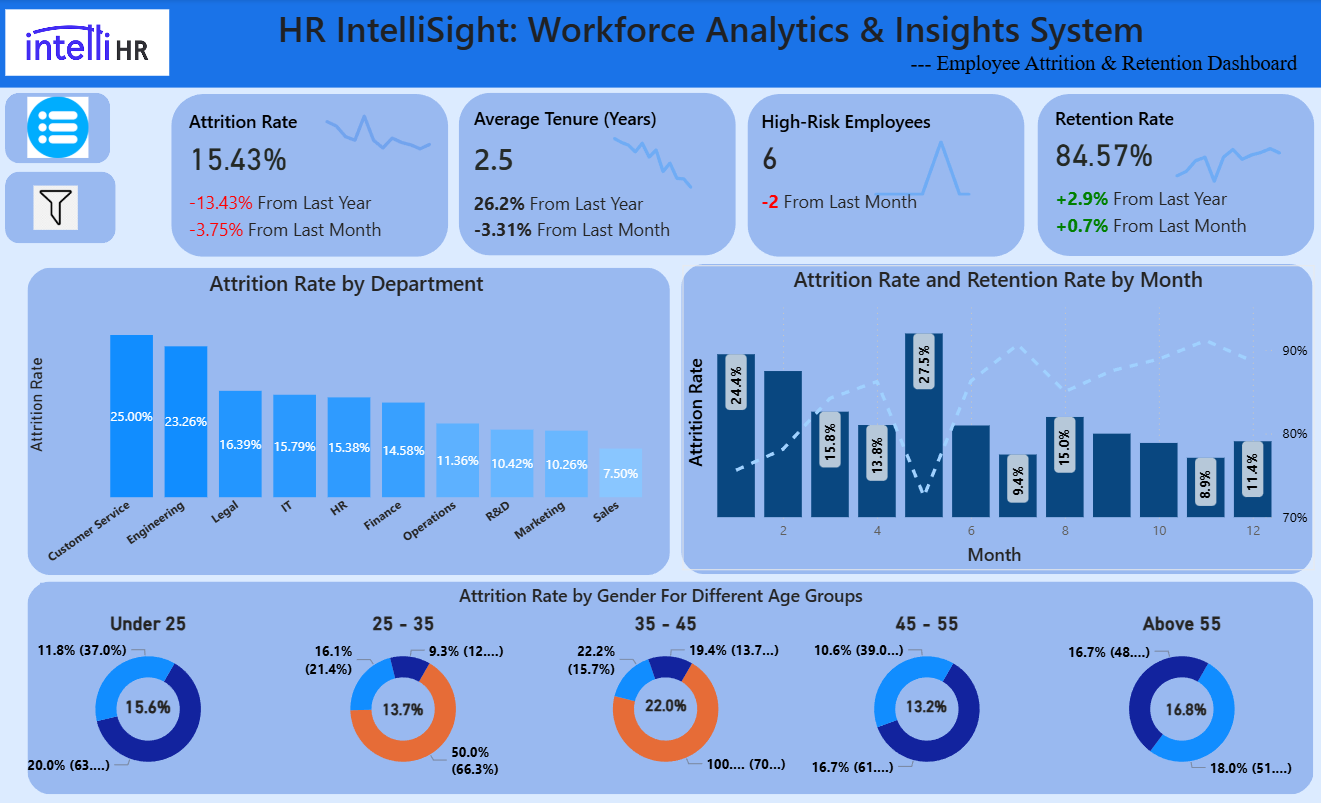

This screenshot's page, from the dashboard's own definition file:
{"tool":"powerbi","page":{"name":"Attrition & Retention","canvas":[1200,730],"ordinal":1},"visuals":[{"type":"shape","box":[0,0,1200,80],"z":0},{"type":"shape","box":[0.3,75,178.8,655],"z":0,"group":"g7"},{"type":"shape","box":[414.9,85,250,147],"z":0,"group":"g2"},{"type":"shape","box":[154.2,85.4,250,147],"z":0,"group":"g1"},{"type":"shape","box":[674.9,85.9,250,147],"z":0,"group":"g3"},{"type":"shape","box":[937.2,85.9,250,146.2],"z":0,"group":"g4"},{"type":"shape","box":[615.6,238.9,570,280],"z":0,"group":"g5"},{"type":"shape","box":[25,242.2,580,277.5],"z":0,"group":"g6"},{"type":"textbox","box":[5,0,1275,80],"z":1000},{"type":"slicer","fields":{"Values":["Calender.Year"]},"box":[0,234.7,173.8,326.2],"z":1000,"group":"g7"},{"type":"lineClusteredColumnComboChart","fields":{"Category":["Calendar.Month"],"Y":["01_Employee_Master_Fact.Attrition Rate"],"Y2":["01_Employee_Master_Fact.Retention Rate"]},"box":[616.2,239.5,570,276.2],"z":1000,"group":"g5"},{"type":"columnChart","fields":{"Y":["01_Employee_Master_Fact.Attrition Rate"],"Category":["01_Employee_Master_Fact.Department"]},"box":[20,242.8,585,276.2],"z":1000,"group":"g6"},{"type":"cardVisual","fields":{"Data":["01_Employee_Master_Fact.High-Risk Employees"]},"box":[670,69,247.5,141.2],"z":2000,"group":"g3"},{"type":"cardVisual","fields":{"Data":["01_Employee_Master_Fact.Average Tenure (Years)"]},"box":[411,79,225,153.8],"z":2000,"group":"g2"},{"type":"cardVisual","fields":{"Data":["01_Employee_Master_Fact.Retention Rate"]},"box":[936,79,248.8,141.2],"z":2000,"group":"g4"},{"type":"group","id":"g1","title":"Group 1","box":[153,82,274,150],"z":2000},{"type":"cardVisual","fields":{"Data":["01_Employee_Master_Fact.Attrition Rate"]},"box":[153,82,248.8,141.2],"z":2000,"group":"g1"},{"type":"shape","box":[24.4,525.6,1161.1,192.2],"z":3000},{"type":"shape","box":[5,85,95,63.8],"z":4000},{"type":"shape","box":[5,156.2,100,65],"z":5000},{"type":"group","id":"g2","title":"Group 2","box":[411,79,253,153],"z":6000},{"type":"group","id":"g3","title":"Group 3","box":[670,69,255,164],"z":7000},{"type":"group","id":"g4","title":"Group 4","box":[936,79,260,153],"z":8000},{"type":"donutChart","title":"Under 25","fields":{"Category":["01_Employee_Master_Fact.Gender"],"Y":["01_Employee_Master_Fact.Attrition Rate"],"Series":["01_Employee_Master_Fact.Age Groups"]},"box":[21.2,553.8,225,155],"z":9000},{"type":"lineChart","fields":{"Category":["Calender.Month"],"Y":["01_Employee_Master_Fact.Attrition Rate"]},"box":[271.6,87.6,156.2,67.5],"z":10000,"group":"g1"},{"type":"group","id":"g5","title":"Group 5","box":[615.6,238.9,572.2,280],"z":10000},{"type":"lineChart","fields":{"Category":["Calender.Month"],"Y":["01_Employee_Master_Fact.Average Tenure (Years)"]},"box":[537.9,99.6,123.8,67.5],"z":11000,"group":"g2"},{"type":"group","id":"g6","title":"Group 6","box":[20,242.2,585.6,276.7],"z":11000},{"type":"textbox","title":"Attrition Rate by Gender For Different Age Groups ","box":[36.2,527.5,1121.2,26.2],"z":12000},{"type":"donutChart","title":"25 - 35","fields":{"Category":["01_Employee_Master_Fact.Gender"],"Y":["01_Employee_Master_Fact.Attrition Rate"],"Series":["01_Employee_Master_Fact.Age Groups"]},"box":[251.2,553.8,225,155],"z":13000},{"type":"donutChart","title":"Above 55","fields":{"Category":["01_Employee_Master_Fact.Gender"],"Y":["01_Employee_Master_Fact.Attrition Rate"],"Series":["01_Employee_Master_Fact.Age Groups"]},"box":[955,553.8,225,155],"z":14000},{"type":"lineChart","fields":{"Category":["Calender.Month"],"Y":["01_Employee_Master_Fact.High-Risk Employees"]},"box":[767.4,114.9,156.2,67.5],"z":14500,"group":"g3"},{"type":"donutChart","title":"45 - 55","fields":{"Category":["01_Employee_Master_Fact.Gender"],"Y":["01_Employee_Master_Fact.Attrition Rate"],"Series":["01_Employee_Master_Fact.Age Groups"]},"box":[725,553.8,225,155],"z":15000},{"type":"donutChart","title":"35 - 45","fields":{"Category":["01_Employee_Master_Fact.Gender"],"Y":["01_Employee_Master_Fact.Attrition Rate"],"Series":["01_Employee_Master_Fact.Age Groups"]},"box":[488.8,553.8,225,155],"z":16000},{"type":"image","box":[0,5,157.5,70],"z":17000},{"type":"image","box":[21.2,163.8,57.5,50],"z":18000},{"type":"image","box":[2.5,83.8,100,65],"z":19000},{"type":"lineChart","fields":{"Category":["Calender.Month"],"Y":["01_Employee_Master_Fact.Retention Rate"]},"box":[1039.8,106.8,156.2,67.5],"z":19500,"group":"g4"},{"type":"group","id":"g7","title":"Group 7","box":[0,75,179.1,655],"z":21000},{"type":"image","box":[106.2,83.8,65,45],"z":21001,"group":"g7"},{"type":"card","title":"Under 25","fields":{"Values":["01_Employee_Master_Fact.Avg Attrition Rate by Age Group"]},"box":[107.5,623.8,52.5,32.5],"z":22000},{"type":"card","title":"25 - 35","fields":{"Values":["01_Employee_Master_Fact.Avg Attrition Rate by Age Group"]},"box":[337.5,623.8,52.5,37.5],"z":23000},{"type":"card","title":"35 - 45","fields":{"Values":["01_Employee_Master_Fact.Avg Attrition Rate by Age Group"]},"box":[575,621.2,53.8,37.5],"z":24000},{"type":"card","title":"45 - 55","fields":{"Values":["01_Employee_Master_Fact.Avg Attrition Rate by Age Group"]},"box":[806.2,623.8,61.2,31.2],"z":25000},{"type":"card","title":"Above 55","fields":{"Values":["01_Employee_Master_Fact.Attrition Rate"]},"box":[1043.8,628.8,53.8,27.5],"z":26000},{"type":"shape","box":[540,513.3,280,192.2],"z":27000}]}

Visuals, with their boxes in screenshot pixels (x1, y1, x2, y2), scaled from the page's 1200x730 canvas onto the 1321x803 screenshot:
shape: locate(0, 0, 1320, 88)
shape: locate(0, 82, 197, 802)
shape: locate(457, 94, 732, 255)
shape: locate(170, 94, 445, 256)
shape: locate(743, 94, 1018, 256)
shape: locate(1032, 94, 1307, 255)
shape: locate(678, 263, 1305, 571)
shape: locate(28, 266, 666, 572)
textbox: locate(6, 0, 1320, 88)
slicer - Calender.Year: locate(0, 258, 191, 617)
lineClusteredColumnComboChart - Calendar.Month x 01_Employee_Master_Fact.Attrition Rate: locate(678, 263, 1306, 567)
columnChart - 01_Employee_Master_Fact.Attrition Rate x 01_Employee_Master_Fact.Department: locate(22, 267, 666, 571)
cardVisual - 01_Employee_Master_Fact.High-Risk Employees: locate(738, 76, 1010, 231)
cardVisual - 01_Employee_Master_Fact.Average Tenure (Years): locate(452, 87, 700, 256)
cardVisual - 01_Employee_Master_Fact.Retention Rate: locate(1030, 87, 1304, 242)
"Group 1" group: locate(168, 90, 470, 255)
cardVisual - 01_Employee_Master_Fact.Attrition Rate: locate(168, 90, 442, 246)
shape: locate(27, 578, 1305, 790)
shape: locate(6, 94, 110, 164)
shape: locate(6, 172, 116, 243)
"Group 2" group: locate(452, 87, 731, 255)
"Group 3" group: locate(738, 76, 1018, 256)
"Group 4" group: locate(1030, 87, 1317, 255)
"Under 25" donutChart: locate(23, 609, 271, 780)
lineChart - Calender.Month x 01_Employee_Master_Fact.Attrition Rate: locate(299, 96, 471, 171)
"Group 5" group: locate(678, 263, 1308, 571)
lineChart - Calender.Month x 01_Employee_Master_Fact.Average Tenure (Years): locate(592, 110, 728, 184)
"Group 6" group: locate(22, 266, 667, 571)
"Attrition Rate by Gender For Different Age Groups " textbox: locate(40, 580, 1274, 609)
"25 - 35" donutChart: locate(277, 609, 524, 780)
"Above 55" donutChart: locate(1051, 609, 1299, 780)
lineChart - Calender.Month x 01_Employee_Master_Fact.High-Risk Employees: locate(845, 126, 1017, 201)
"45 - 55" donutChart: locate(798, 609, 1046, 780)
"35 - 45" donutChart: locate(538, 609, 786, 780)
image: locate(0, 6, 173, 82)
image: locate(23, 180, 87, 235)
image: locate(3, 92, 113, 164)
lineChart - Calender.Month x 01_Employee_Master_Fact.Retention Rate: locate(1145, 117, 1317, 192)
"Group 7" group: locate(0, 82, 197, 802)
image: locate(117, 92, 188, 142)
"Under 25" card: locate(118, 686, 176, 722)
"25 - 35" card: locate(372, 686, 429, 727)
"35 - 45" card: locate(633, 683, 692, 725)
"45 - 55" card: locate(887, 686, 955, 721)
"Above 55" card: locate(1149, 692, 1208, 722)
shape: locate(594, 565, 903, 776)
